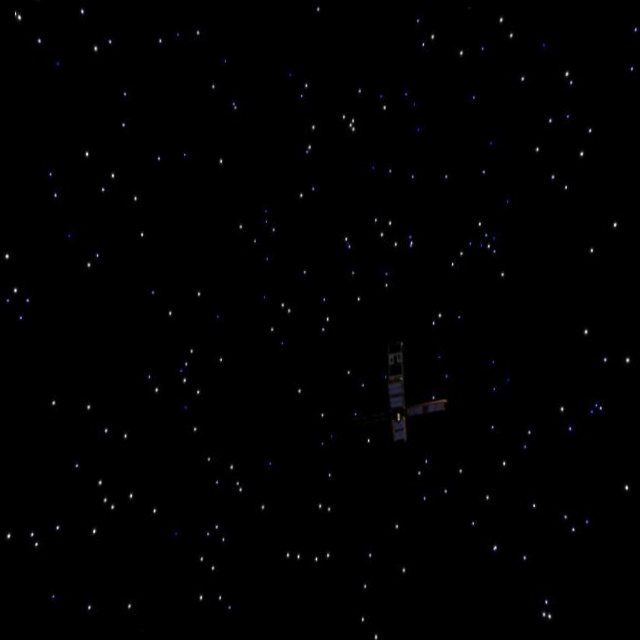medium_debris: (355, 332, 454, 455)
